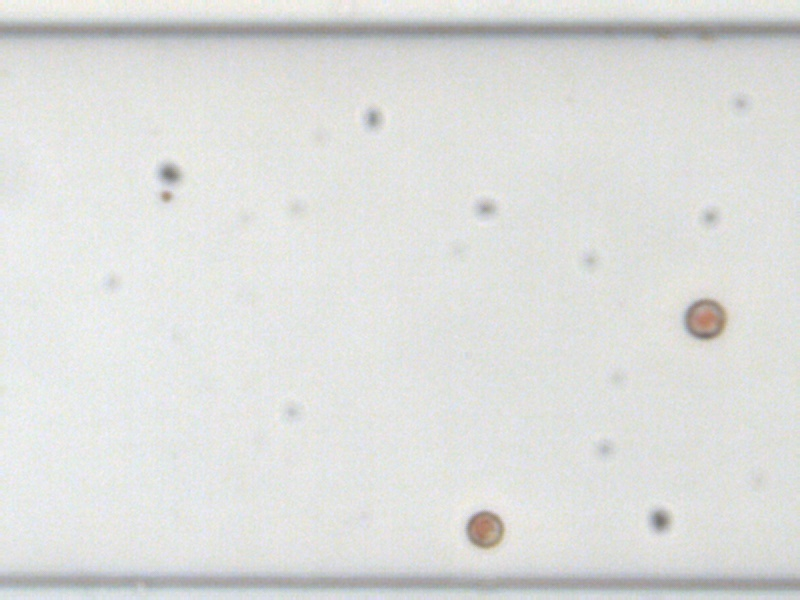Chlorella: (158, 189, 172, 202)
Porphyridium: (678, 297, 723, 338), (462, 508, 505, 548)
